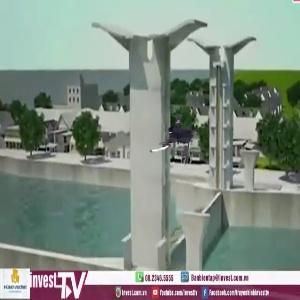drone: (138, 102, 208, 172)
